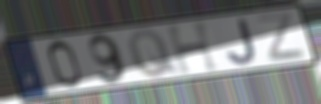0: (46, 39, 84, 90)
9: (87, 33, 129, 86)
H: (164, 19, 223, 77)
J: (224, 16, 260, 67)
Q: (125, 28, 181, 79)
Z: (254, 11, 309, 63)
